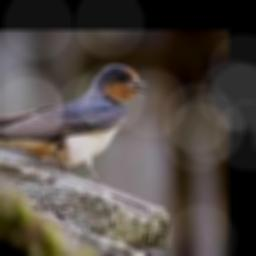Swallow: (0, 65, 149, 184)
